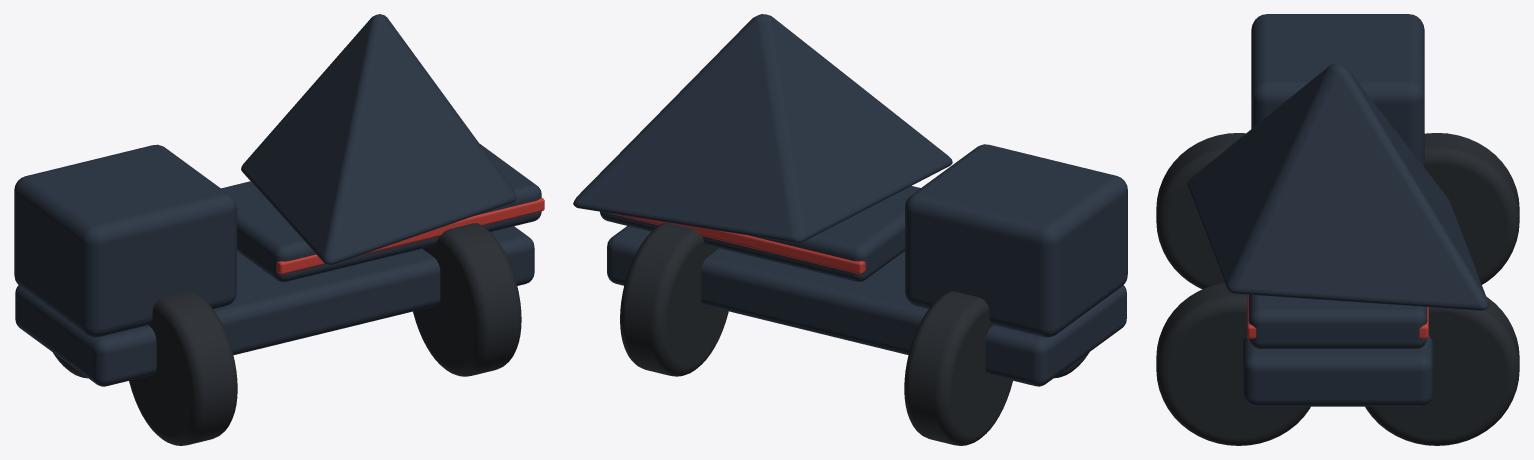
Rendered from pieceA.glb.
The picture shows the model from 3 angles, left to right: view 1: azimuth 30°, elevation 25°; view 2: azimuth 150°, elevation 25°; view 3: azimuth 270°, elevation 25°; orthographic projection. The views are drawn at different scales.
Parts seen in each view (by area): view 1: mound, cab, chassis, Cylinder.003, Cylinder.001, bedfloor, stripe; view 2: mound, cab, chassis, Cylinder.002, Cylinder, bedfloor, stripe; view 3: mound, cab, Cylinder.003, Cylinder.002, chassis, Cylinder, bedfloor, Cylinder.001.
Part boxes in pixels (<box>): mound: <box>241,14,516,264</box>; cab: <box>14,144,236,337</box>; chassis: <box>15,226,534,386</box>; Cylinder.003: <box>413,223,521,376</box>; Cylinder.001: <box>129,291,237,445</box>; bedfloor: <box>221,143,541,282</box>; stripe: <box>276,197,544,274</box>; mound: <box>573,14,952,242</box>; cab: <box>905,144,1127,337</box>; chassis: <box>607,226,1126,386</box>; Cylinder.002: <box>620,222,728,376</box>; Cylinder: <box>904,291,1012,445</box>; bedfloor: <box>600,186,920,281</box>; stripe: <box>610,213,865,274</box>; mound: <box>1187,64,1488,310</box>; cab: <box>1251,14,1424,167</box>; Cylinder.003: <box>1156,283,1310,445</box>; Cylinder.002: <box>1365,296,1519,445</box>; chassis: <box>1243,336,1432,406</box>; Cylinder: <box>1424,133,1519,284</box>; bedfloor: <box>1248,295,1427,348</box>; Cylinder.001: <box>1156,133,1245,289</box>.
Size of the model in its own units: 3.41 by 2.36 by 2.2.
